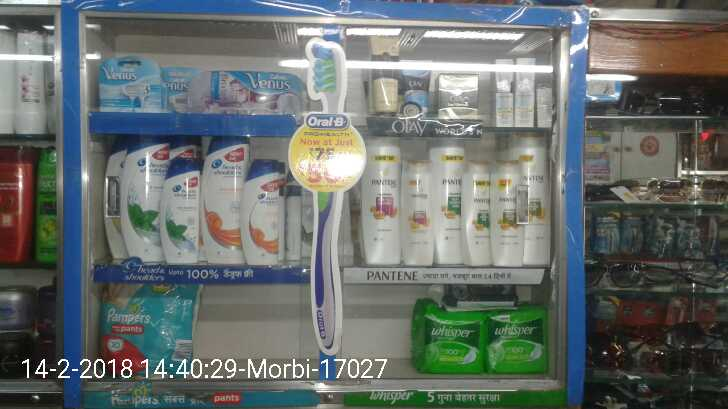venus: (191, 73, 302, 115), (100, 58, 159, 109), (164, 69, 190, 114)
